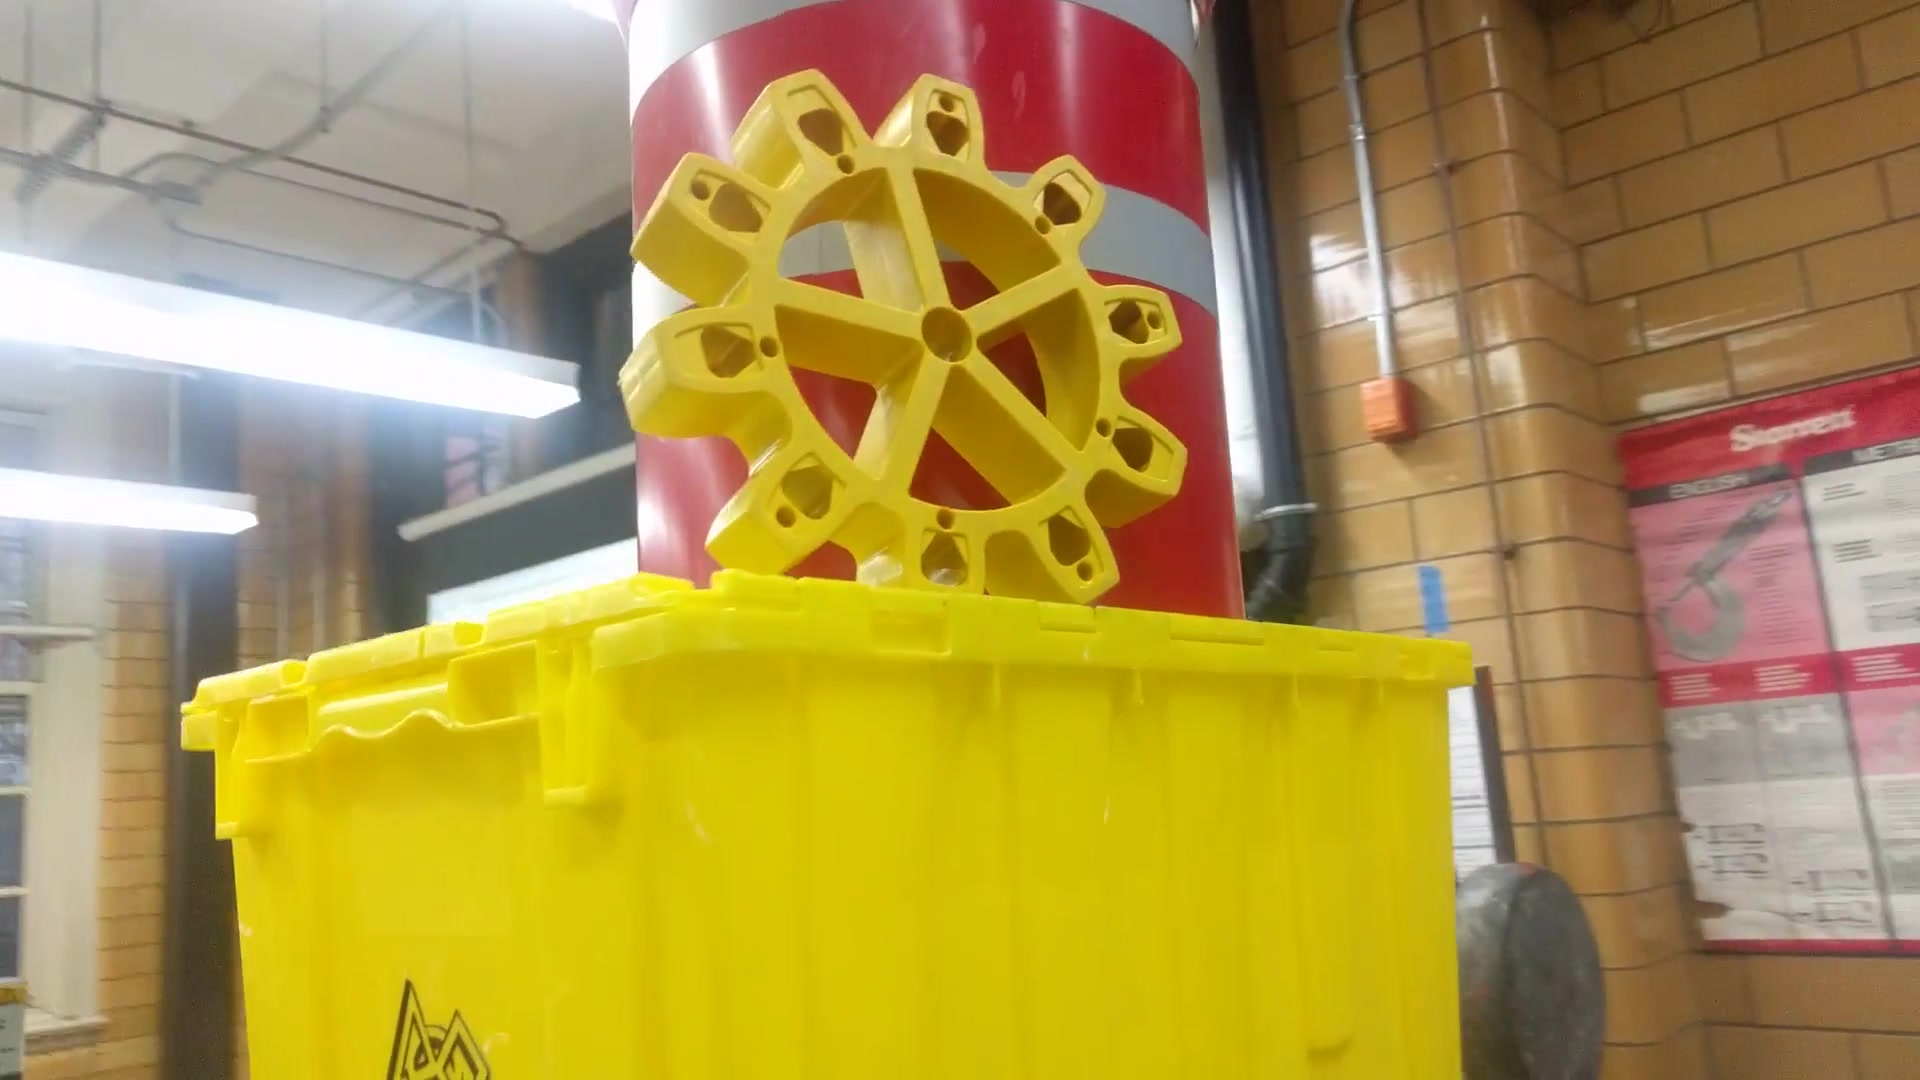gear: (622, 55, 1193, 608)
